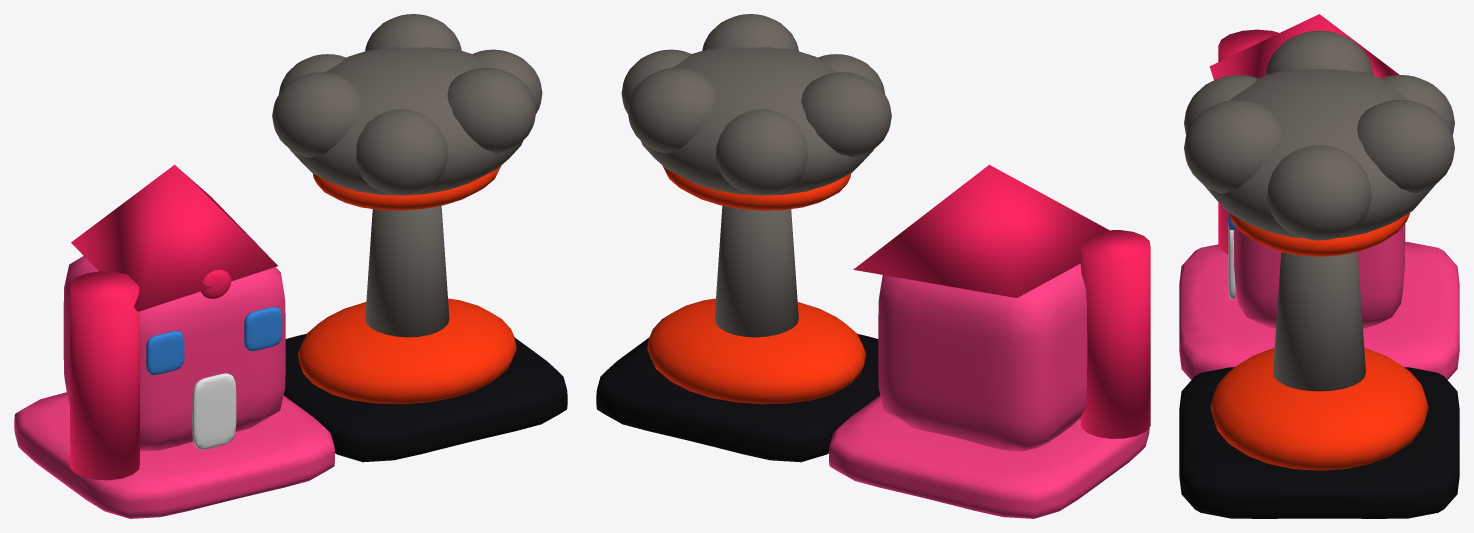
Rendered from PinkbombFeature.fbx.
3 renders of one model, left to right at view 1: azimuth 30°, elevation 25°; view 2: azimuth 150°, elevation 25°; view 3: azimuth 270°, elevation 25°, orthographic. The views are drawn at different scales.
Visible parts, largest first — view 1: PinkbombFeature; view 2: PinkbombFeature; view 3: PinkbombFeature.
Part boxes in pixels (x1,y1,x2,y2): PinkbombFeature: (14,14,567,518); PinkbombFeature: (596,14,1150,518); PinkbombFeature: (1179,14,1459,518).
Size of the model in its own units: 4 by 2.7 by 1.8.
1 material, 1 textured.
